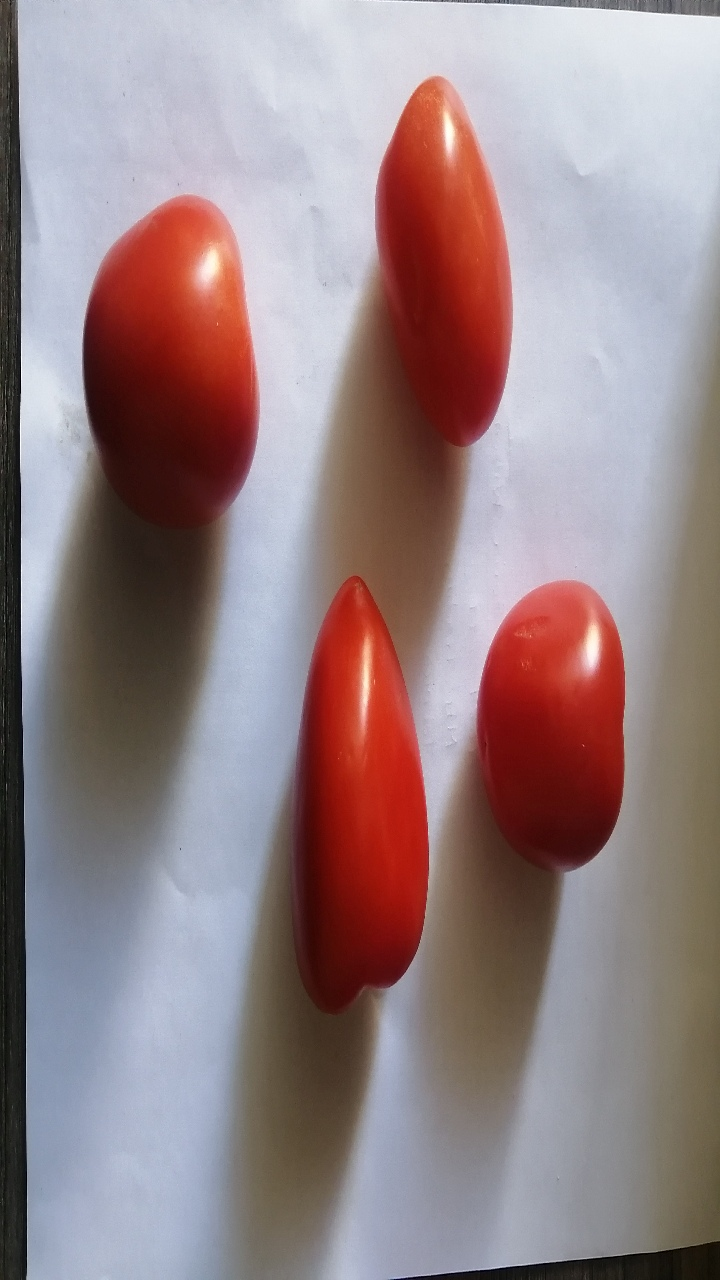tomateRojo: (51, 179, 280, 534), (335, 60, 523, 475), (269, 579, 441, 1000), (463, 548, 657, 886)
